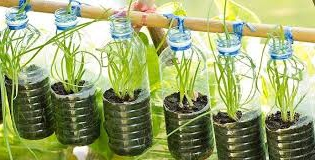plastic water bottle: (205, 31, 269, 160), (100, 17, 157, 154), (1, 9, 56, 144), (161, 26, 215, 160), (49, 8, 101, 145), (262, 38, 315, 160)
